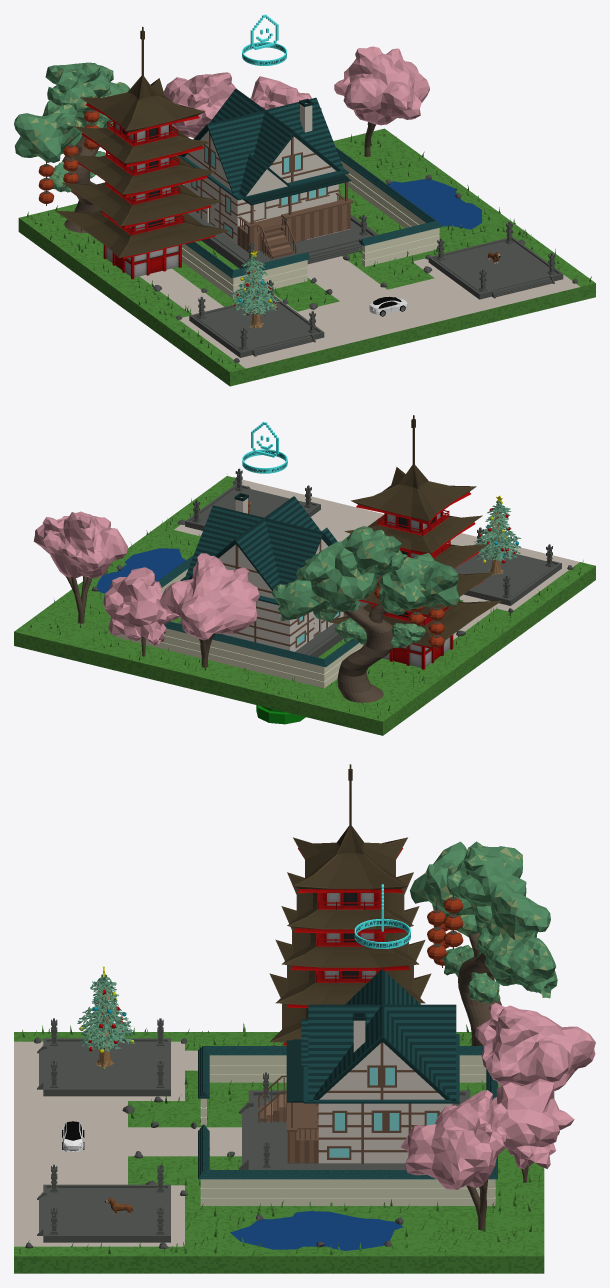
3 renders of one model, top to bottom at view 1: azimuth 30°, elevation 25°; view 2: azimuth 150°, elevation 25°; view 3: azimuth 270°, elevation 25°, orthographic. The views are drawn at different scales.
Parts seen in each view (by area): view 1: Cube.005, Cube.793, OBJRANDOM_CHRISTMAS_TREE, TYPE_PREMIUM, VEHICLES_TESLA; view 2: Cube.005, Cube.793, OBJRANDOM_CHRISTMAS_TREE, TYPE_PREMIUM, UNDERGROUND_PIPES; view 3: Cube.005, Cube.793, OBJRANDOM_CHRISTMAS_TREE, TYPE_PREMIUM.
Part boxes in pixels (x1,y1,x2,y2): Cube.005: (14, 26, 595, 386); Cube.793: (178, 88, 353, 259); OBJRANDOM_CHRISTMAS_TREE: (230, 250, 279, 328); TYPE_PREMIUM: (242, 14, 286, 65); VEHICLES_TESLA: (369, 296, 407, 316); Cube.005: (14, 415, 595, 735); Cube.793: (180, 493, 345, 651); OBJRANDOM_CHRISTMAS_TREE: (474, 495, 520, 575); TYPE_PREMIUM: (242, 421, 287, 473); UNDERGROUND_PIPES: (256, 705, 305, 724); Cube.005: (14, 764, 595, 1273); Cube.793: (258, 969, 459, 1163); OBJRANDOM_CHRISTMAS_TREE: (77, 966, 134, 1068); TYPE_PREMIUM: (354, 884, 410, 948).
Size of the model in its own units: 4528 by 3273 by 4389.
Materials: 36 (7 with a texture image).
